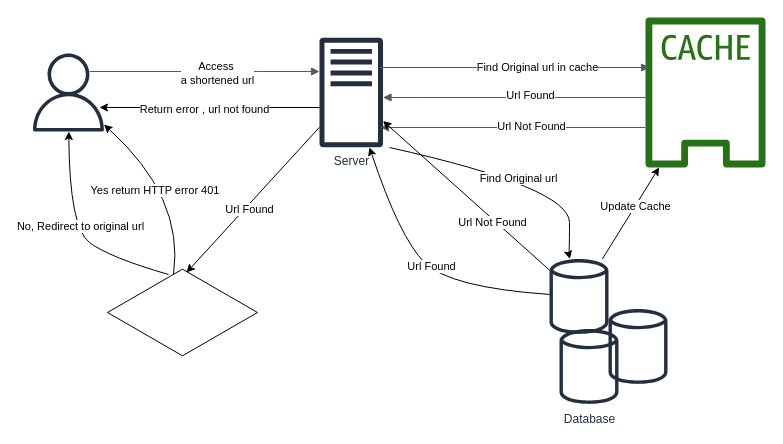
Image size: 783x444. Some labels were removed from this diagram. Here are the shapes that lost their labels. From the top down, the box of each, then its label:
(29, 53, 107, 131): Client
(106, 266, 258, 358): Has Url expired or User does not have permission
